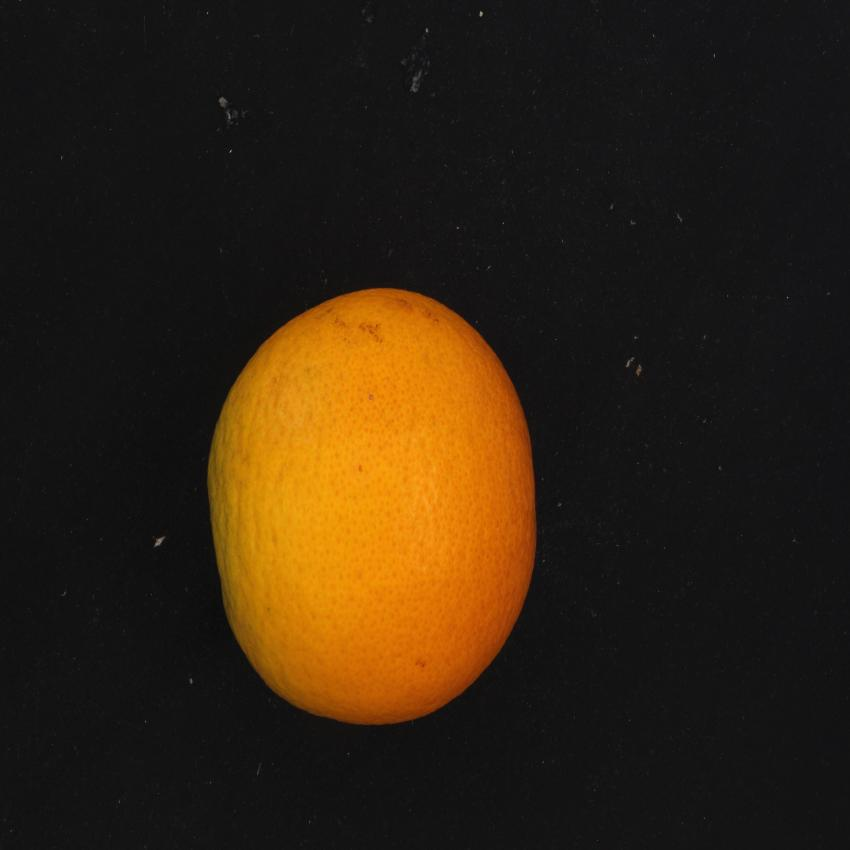Buen estado: (196, 276, 559, 746)
